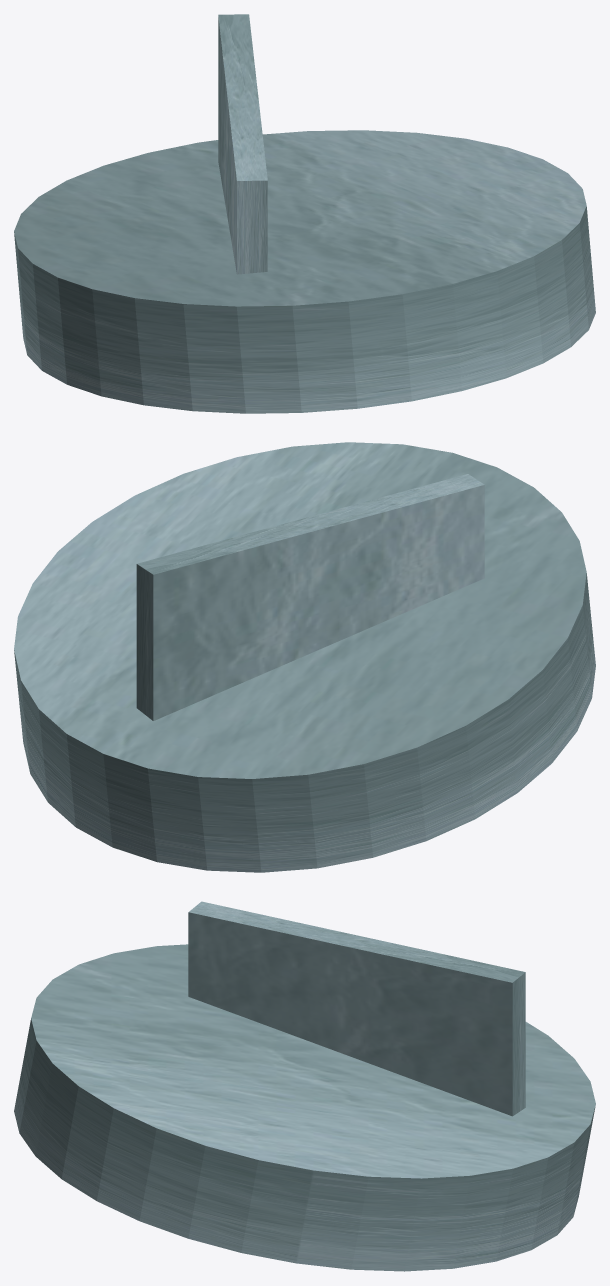
File: ParqueMemoria.gltf
3 renders of one model, top to bottom at view 1: azimuth 30°, elevation 25°; view 2: azimuth 150°, elevation 25°; view 3: azimuth 270°, elevation 25°, orthographic. The views are drawn at different scales.
Parts seen in each view (by area): view 1: ParqueMemoria; view 2: ParqueMemoria; view 3: ParqueMemoria.
Part boxes in pixels (x1,y1,x2,y2): ParqueMemoria: [14, 14, 595, 413]; ParqueMemoria: [14, 442, 595, 872]; ParqueMemoria: [14, 901, 595, 1271].
Bounding box in the file's own units: 1.42 × 0.7238 × 1.6.
1 material, 1 textured.
